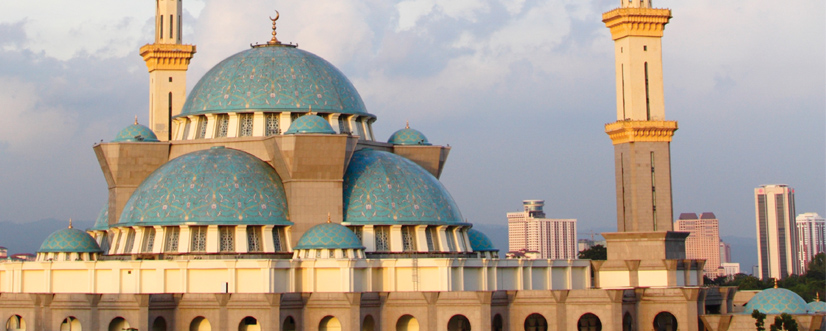Mosque: (26, 4, 687, 295)
